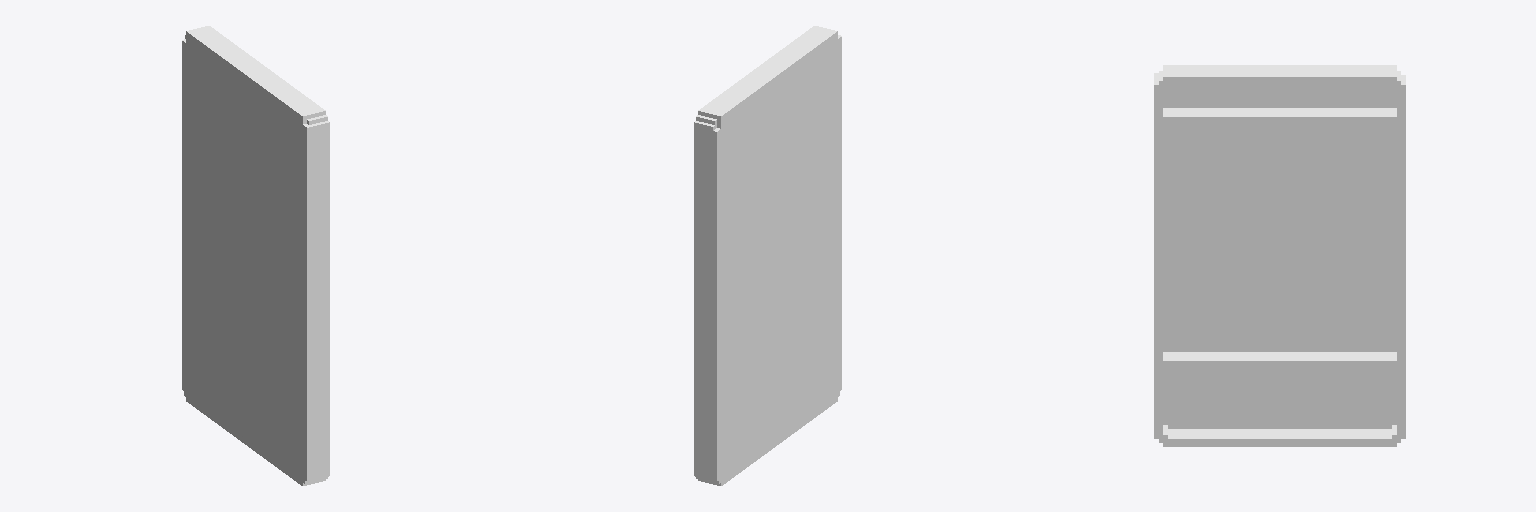
The model's file is TaxLevelPanel.obj.
The picture shows the model from 3 angles: view 1: azimuth 30°, elevation 25°; view 2: azimuth 150°, elevation 25°; view 3: azimuth 270°, elevation 25°; orthographic projection.
Visible parts, largest first — view 1: object 1; view 2: object 1; view 3: object 1.
Part boxes in pixels (x1,y1,x2,y2): object 1: (182, 26, 329, 485); object 1: (694, 26, 841, 485); object 1: (1154, 65, 1405, 446).
Size of the model in its own units: 0.6 by 9.1 by 5.6.